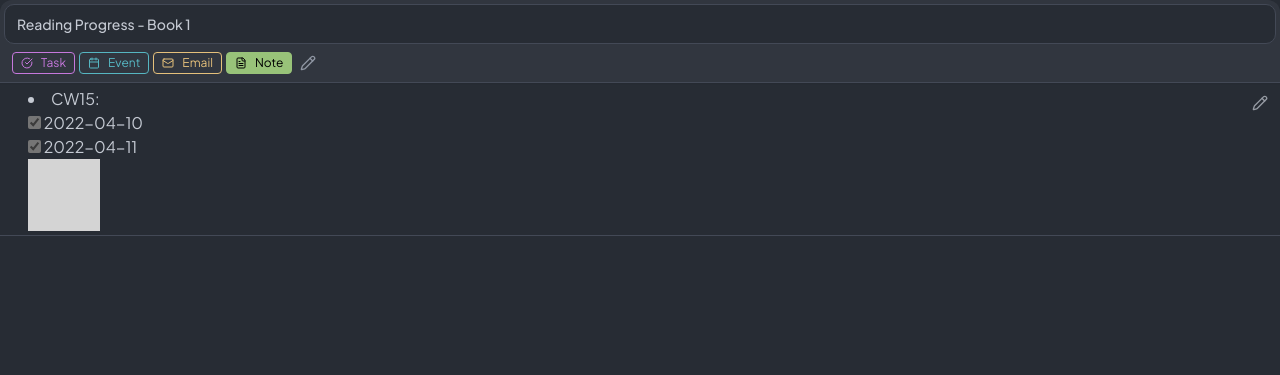
Test case: ContentBody Component › allows editing content
The width and height of the screenshot is (1280, 375).
Click the button named "edit content" at (1260, 103), box [1248,91,1272,115]
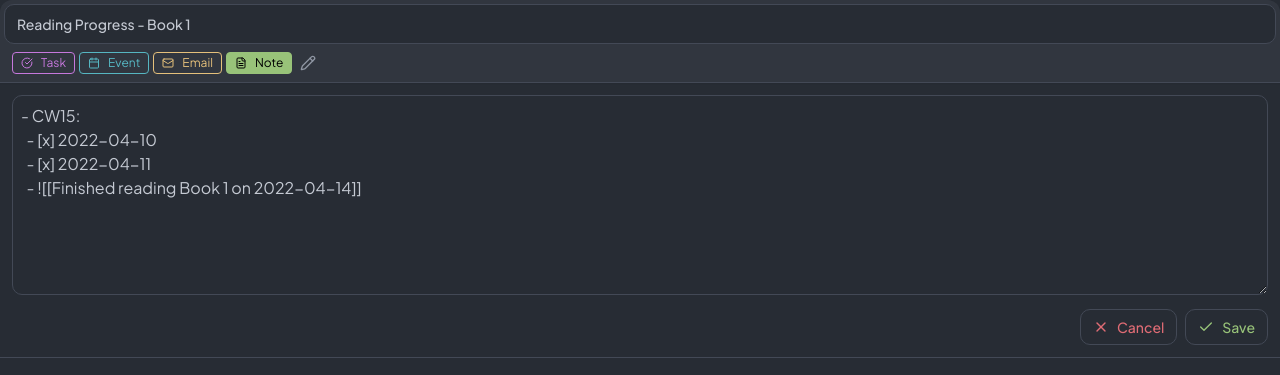
Now the text box named "content editor" is shown, box [12,95,1268,295]
